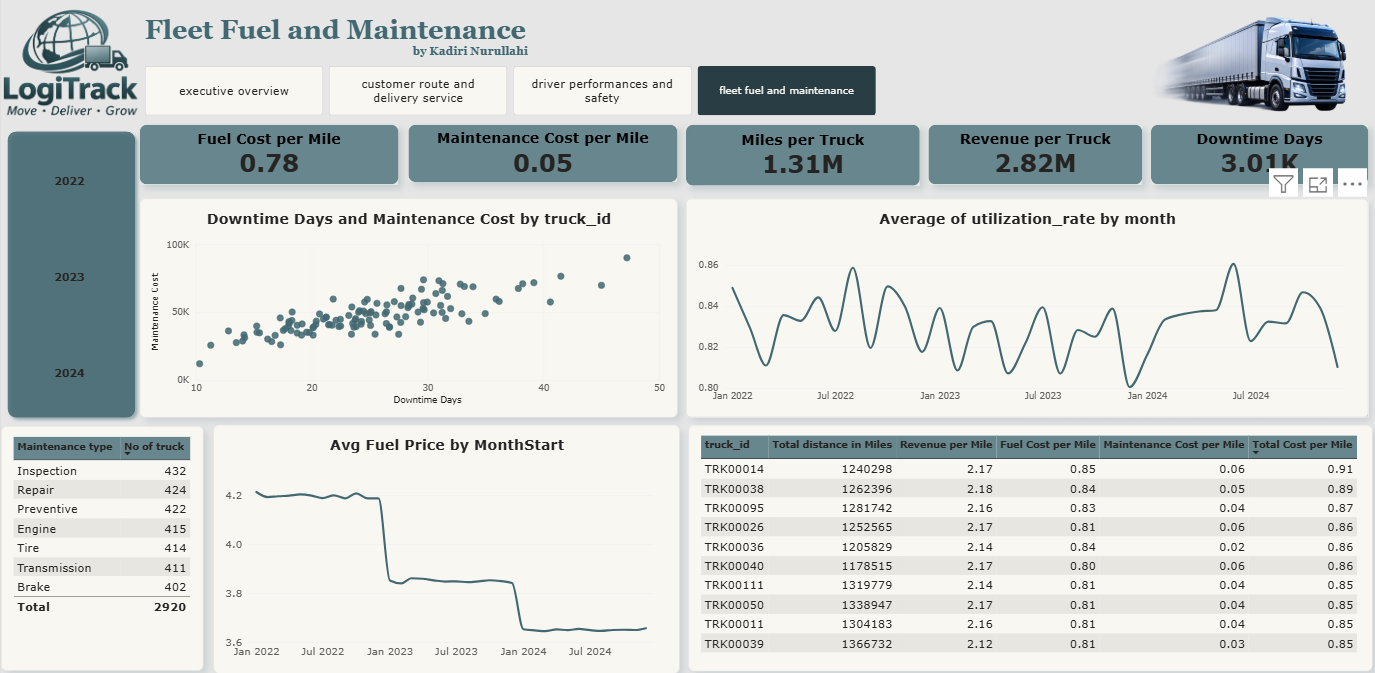

The dashboard page shown, as its layout file describes it:
{"tool":"powerbi","page":{"name":"fleet fuel and maintenance ","canvas":[1920,1080],"ordinal":3},"visuals":[{"type":"shape","box":[0,305.4,196.4,417.9],"z":0},{"type":"cardVisual","fields":{"Data":["truck_utilization_metrics.Revenue per Truck"]},"box":[1294.9,305.9,298.3,83.7],"z":1000},{"type":"cardVisual","fields":{"Data":["truck_utilization_metrics.Miles per Truck"]},"box":[956.5,305.9,326.2,85.5],"z":2000},{"type":"cardVisual","fields":{"Data":["truck_utilization_metrics.Fuel Cost per Mile"]},"box":[194.3,305.9,361,83.7],"z":3000},{"type":"cardVisual","fields":{"Data":["truck_utilization_metrics.Maintenance Cost per Mile"]},"box":[569.3,305.9,375,80.2],"z":4000},{"type":"cardVisual","fields":{"Data":["maintenance_records.Downtime Days"]},"box":[1605.4,305.9,303.5,83.7],"z":5000},{"type":"tableEx","fields":{"Values":["trucks.truck_id","Sum(trips.actual_distance_miles)","trips.Revenue per Mile","truck_utilization_metrics.Fuel Cost per Mile","truck_utilization_metrics.Maintenance Cost per Mile","trips.Total Cost per Mile"]},"box":[959.3,723.8,954.1,343.6],"z":6000},{"type":"scatterChart","fields":{"Category":["trucks.truck_id"],"X":["maintenance_records.Downtime Days"],"Y":["loads.Maintenance Cost"]},"box":[194.3,408.8,750,305.2],"z":7000},{"type":"tableEx","fields":{"Values":["maintenance_records.maintenance_type","CountNonNull(maintenance_records.truck_id)"]},"box":[0,725.6,282.6,341.9],"z":8000},{"type":"lineChart","fields":{"Category":["truck_utilization_metrics.month"],"Y":["Avg(truck_utilization_metrics.utilization_rate)"]},"box":[956.5,408.8,952.3,305.2],"z":9000},{"type":"lineChart","fields":{"Category":["Date.MonthStart"],"Y":["trips.Avg Fuel Price"]},"box":[296.5,723.8,650.6,347.1],"z":10000},{"type":"advancedSlicerVisual","fields":{"Values":["Date.Year"]},"box":[8.9,321.4,173.2,394.6],"z":11000},{"type":"pageNavigator","box":[200.7,223.9,1023.8,69.8],"z":12000},{"type":"textbox","box":[200.7,152.5,539,71.5],"z":13000},{"type":"image","box":[0,137.5,194.6,162.5],"z":14000},{"type":"image","box":[1573.2,148.2,335,150],"z":15000}]}

Visuals, with their boxes on the page's 1920x1080 design canvas (x1, y1, x2, y2). These are canvas units, not pixel positions in the 1375x673 screenshot, which may show the page scaled, cropped or inside an application window:
shape: {"left": 0, "top": 305, "right": 196, "bottom": 723}
cardVisual - truck_utilization_metrics.Revenue per Truck: {"left": 1295, "top": 306, "right": 1593, "bottom": 390}
cardVisual - truck_utilization_metrics.Miles per Truck: {"left": 956, "top": 306, "right": 1283, "bottom": 391}
cardVisual - truck_utilization_metrics.Fuel Cost per Mile: {"left": 194, "top": 306, "right": 555, "bottom": 390}
cardVisual - truck_utilization_metrics.Maintenance Cost per Mile: {"left": 569, "top": 306, "right": 944, "bottom": 386}
cardVisual - maintenance_records.Downtime Days: {"left": 1605, "top": 306, "right": 1909, "bottom": 390}
tableEx - trucks.truck_id x Sum(trips.actual_distance_miles): {"left": 959, "top": 724, "right": 1913, "bottom": 1067}
scatterChart - trucks.truck_id x maintenance_records.Downtime Days: {"left": 194, "top": 409, "right": 944, "bottom": 714}
tableEx - maintenance_records.maintenance_type x CountNonNull(maintenance_records.truck_id): {"left": 0, "top": 726, "right": 283, "bottom": 1068}
lineChart - truck_utilization_metrics.month x Avg(truck_utilization_metrics.utilization_rate): {"left": 956, "top": 409, "right": 1909, "bottom": 714}
lineChart - Date.MonthStart x trips.Avg Fuel Price: {"left": 296, "top": 724, "right": 947, "bottom": 1071}
advancedSlicerVisual - Date.Year: {"left": 9, "top": 321, "right": 182, "bottom": 716}
pageNavigator: {"left": 201, "top": 224, "right": 1224, "bottom": 294}
textbox: {"left": 201, "top": 152, "right": 740, "bottom": 224}
image: {"left": 0, "top": 138, "right": 195, "bottom": 300}
image: {"left": 1573, "top": 148, "right": 1908, "bottom": 298}
